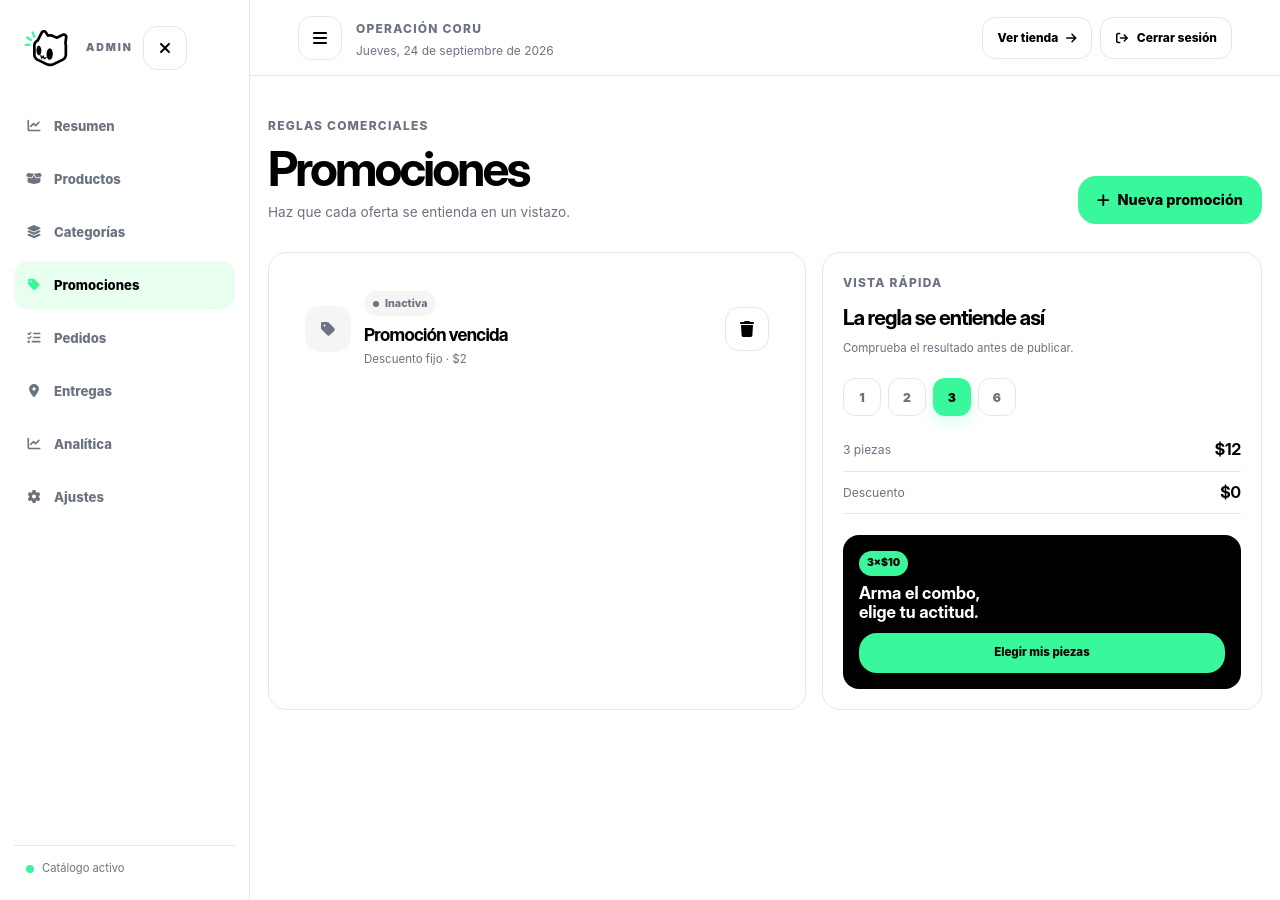
Scenario: Admin operational shell › offers permanent deletion for inactive promotions
This screenshot has width=1280, height=900.
Expected: the heading "Promoción vencida" is shown, [364,324,508,345]
Click the button named "Eliminar Promoción vencida".
click(747, 329)  # box [725,307,769,351]
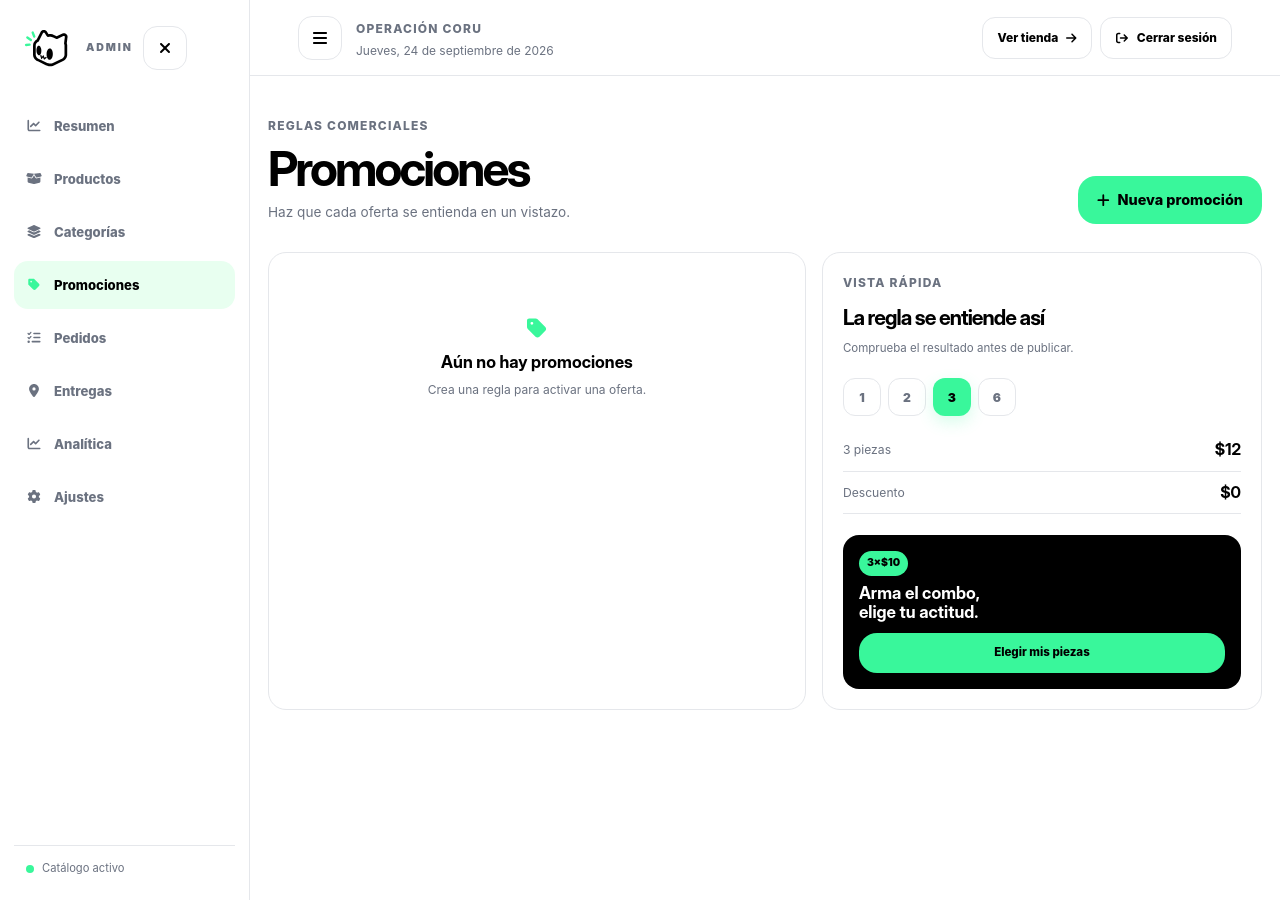
Expected: the heading "Promoción vencida" is gone
